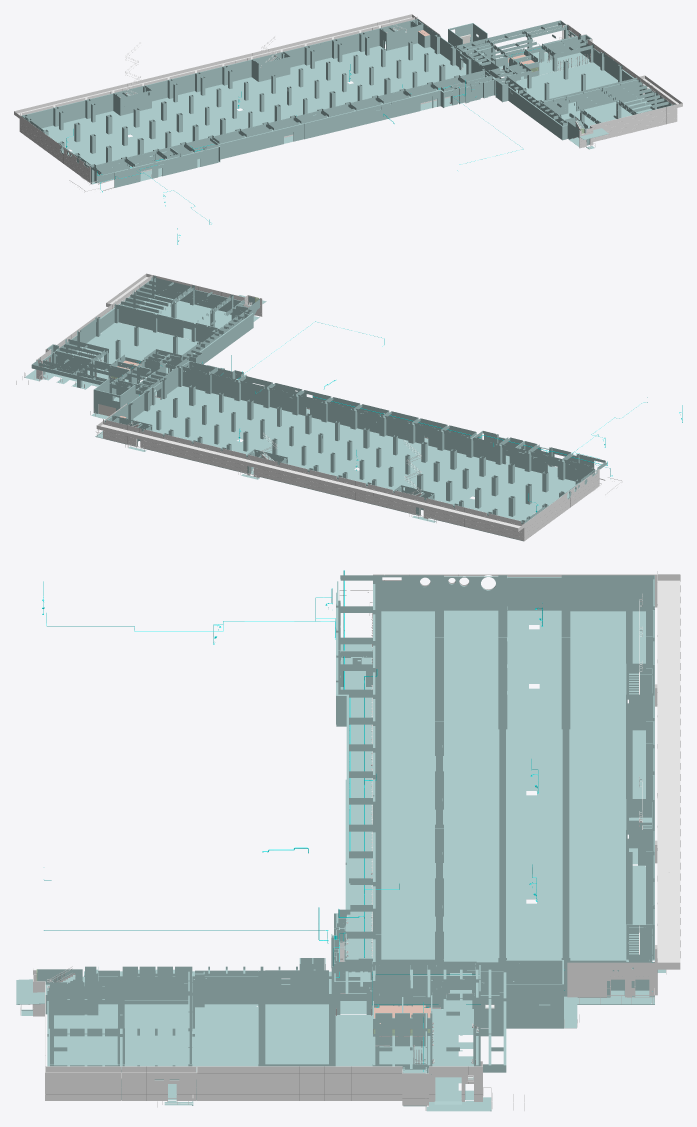
File: storey-1-gf.glb
3 views of the same model, one above another, from view 1: azimuth 30°, elevation 25°; view 2: azimuth 150°, elevation 25°; view 3: azimuth 270°, elevation 25° (orthographic). The views are drawn at different scales.
Bounding box in the file's own units: 139 × 16.6 × 75.54.
